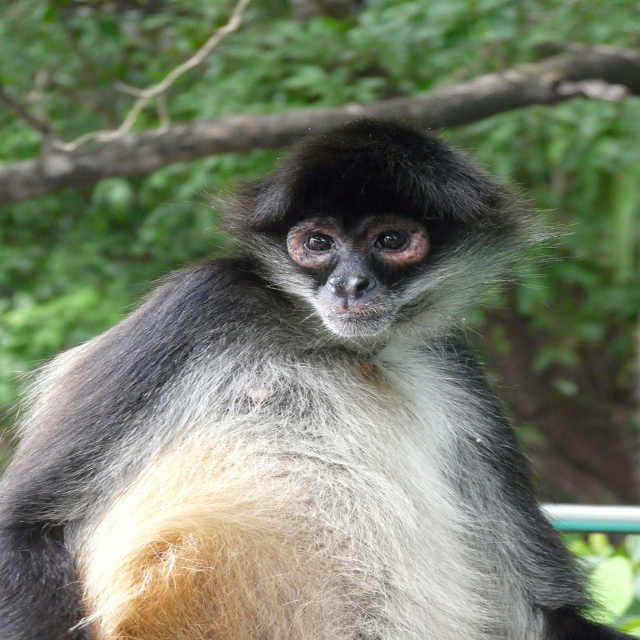Monkey: (0, 109, 640, 640)
